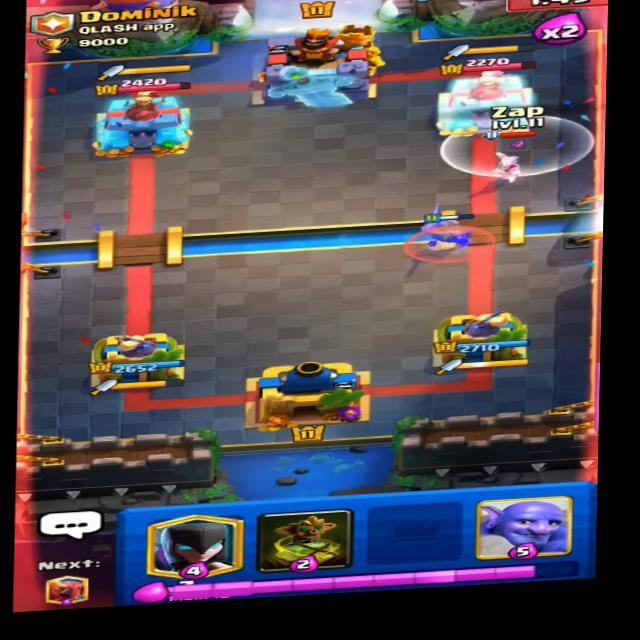evo-wizard: (479, 123, 545, 182)
